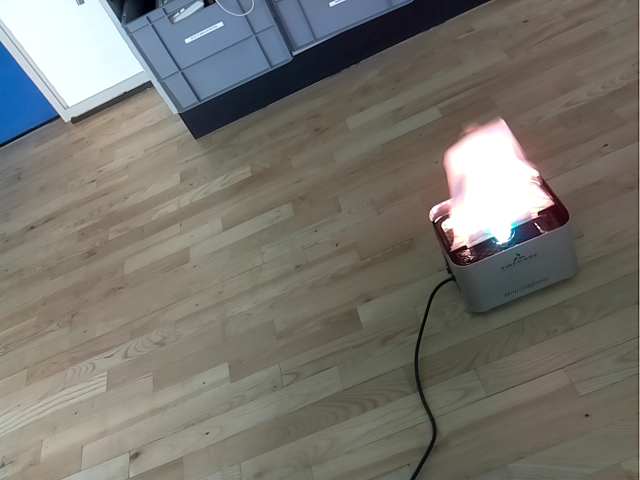fire: (440, 117, 555, 253)
